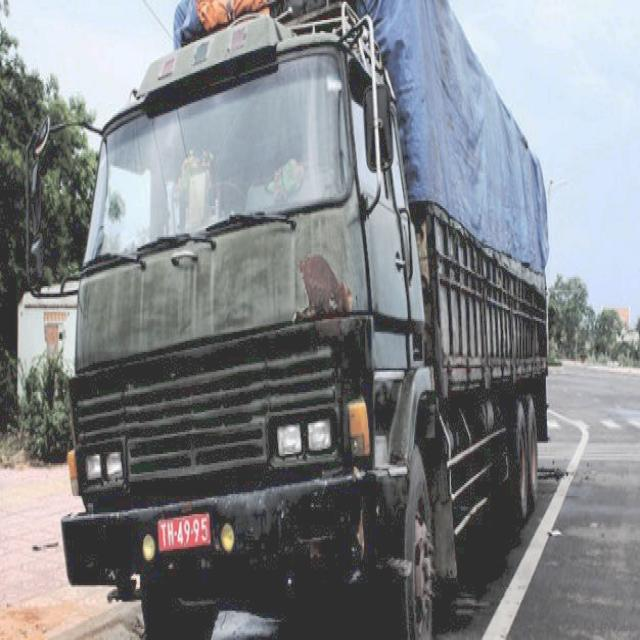license_plate: (157, 510, 212, 552)
